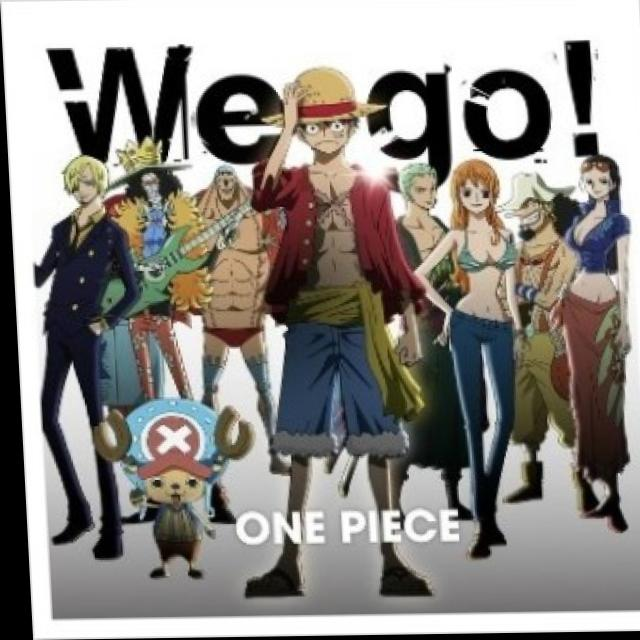Blook: (105, 138, 199, 234)
Chyopa: (85, 389, 260, 593)
Franky: (204, 164, 246, 209)
Luffy: (263, 56, 378, 164)
Nami: (448, 158, 506, 230)
NicoRobin: (578, 150, 618, 209)
Sangdi: (47, 136, 112, 220)
Usopp: (501, 166, 561, 243)
Zoro: (398, 162, 440, 219)
